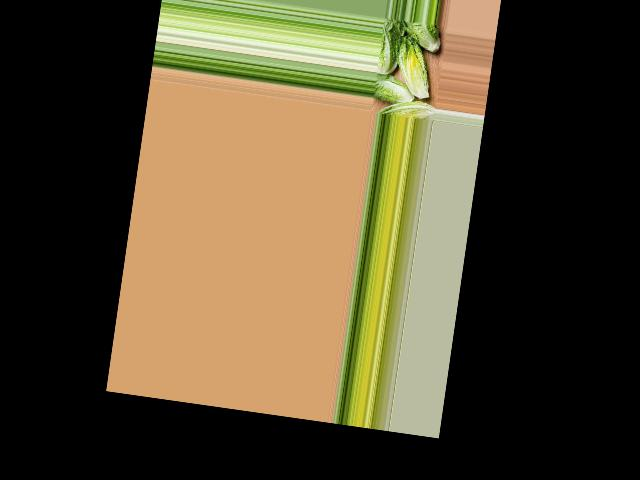lettuce: (378, 94, 435, 121)
